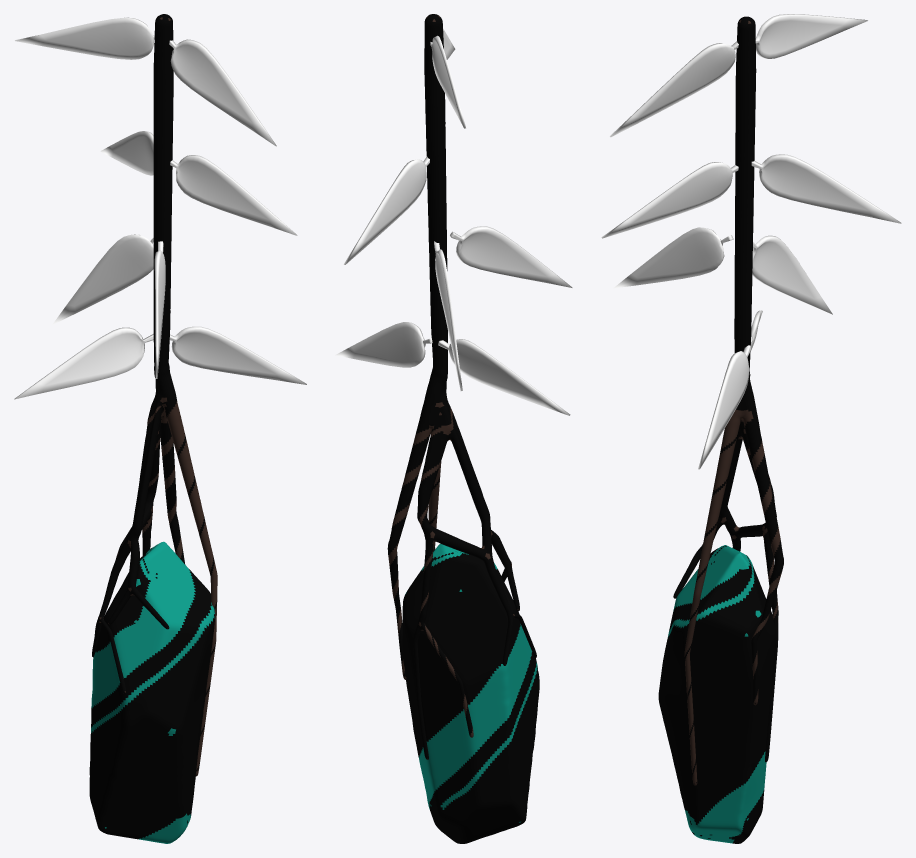
File: Puzzle_Focus.FBX
3 views of the same model, side by side, from view 1: azimuth 30°, elevation 25°; view 2: azimuth 150°, elevation 25°; view 3: azimuth 270°, elevation 25° (orthographic). The views are drawn at different scales.
Parts seen in each view (by area): view 1: hanging_crystal4; view 2: hanging_crystal4; view 3: hanging_crystal4.
Boxes of the visible parts, box(x1,y1,x2,y2) form: hanging_crystal4: box(14, 14, 306, 843); hanging_crystal4: box(335, 14, 572, 843); hanging_crystal4: box(601, 14, 901, 843).
Size of the model in its own units: 26.56 by 78.84 by 25.66.
